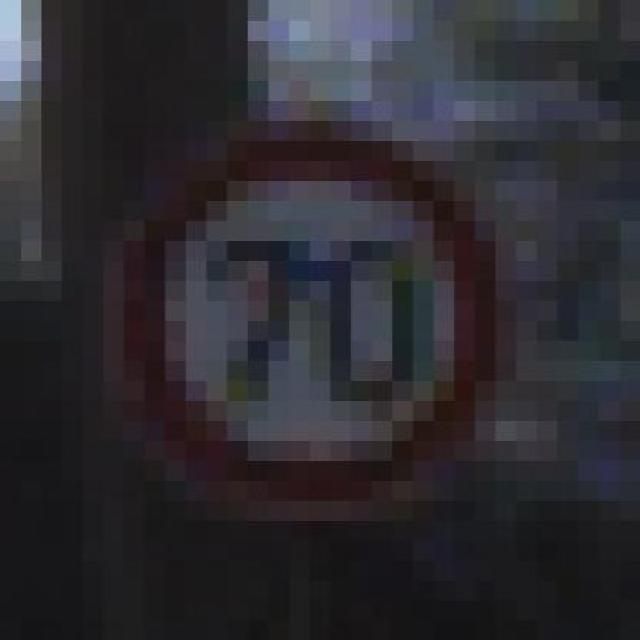forb_speed_over_70: (130, 136, 498, 502)
